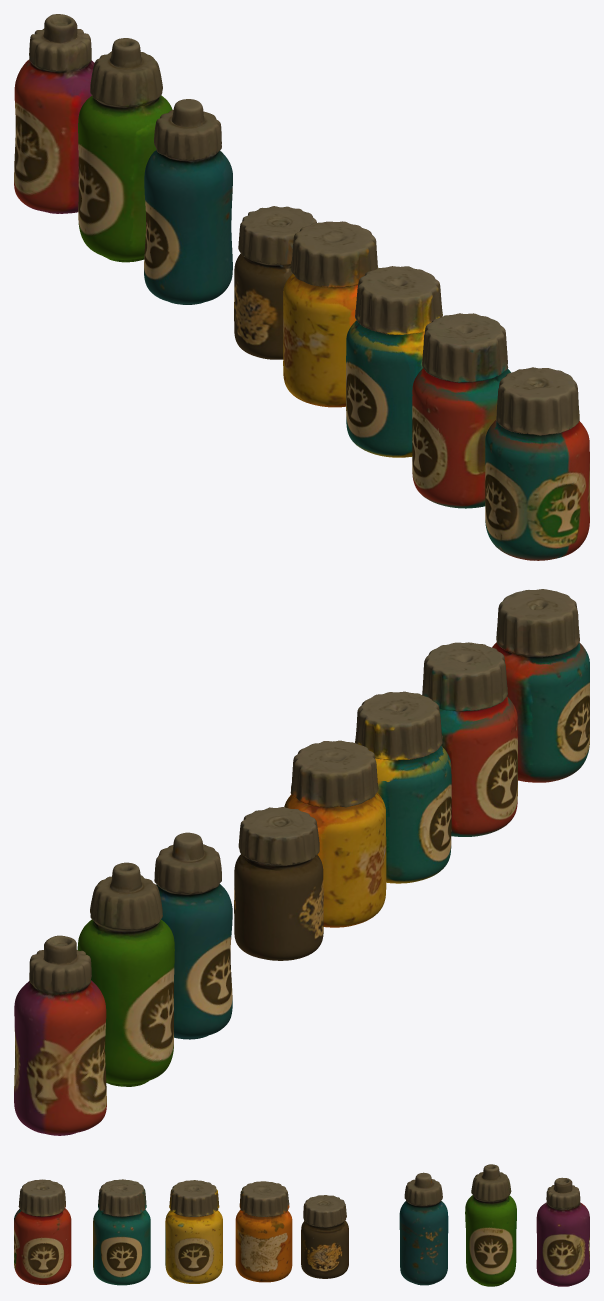
Rendered from paint+bottles+3d+model (2).fbx.
3 renders of one model, top to bottom at view 1: azimuth 30°, elevation 25°; view 2: azimuth 150°, elevation 25°; view 3: azimuth 270°, elevation 25°, orthographic. The views are drawn at different scales.
Parts seen in each view (by area): view 1: tripo_node_69477026; view 2: tripo_node_69477026; view 3: tripo_node_69477026.
Part boxes in pixels (x1=…): tripo_node_69477026: x1=14, y1=14, x2=589, y2=560; tripo_node_69477026: x1=14, y1=589, x2=589, y2=1135; tripo_node_69477026: x1=14, y1=1164, x2=589, y2=1286.
Size of the model in its own units: 0.1 by 0.2181 by 1.
Materials: 1 (1 with a texture image).
